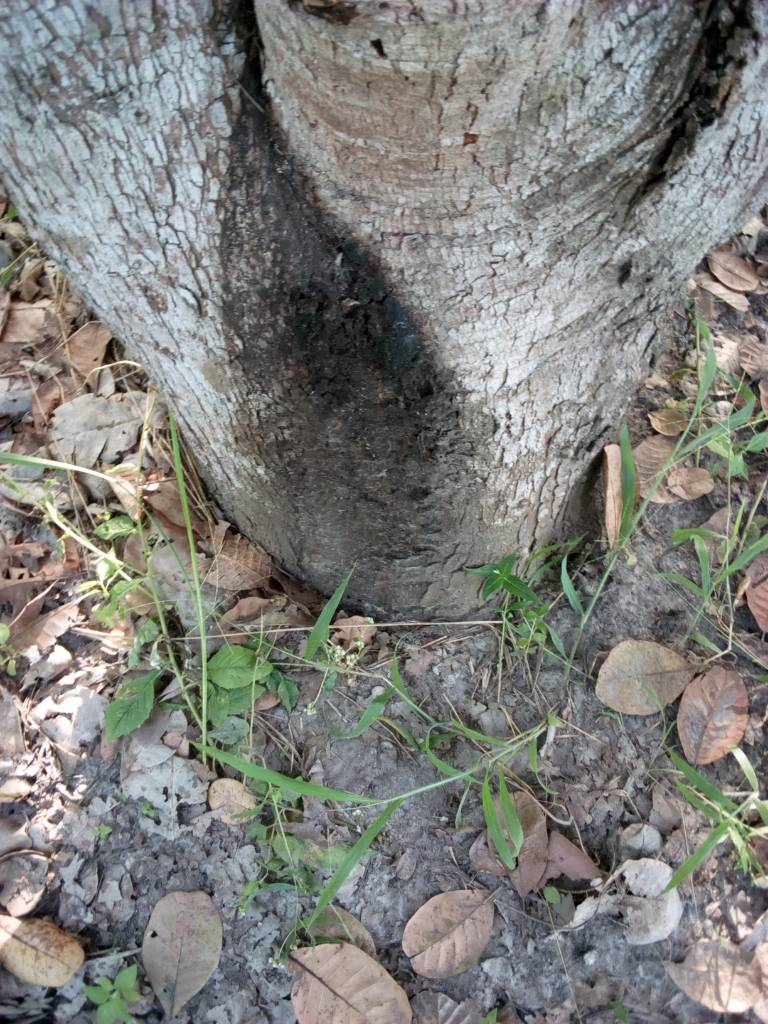Gommose: (255, 269, 455, 491)
